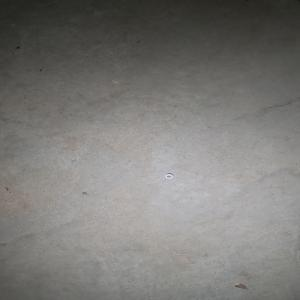Nut: (164, 173, 174, 179)
